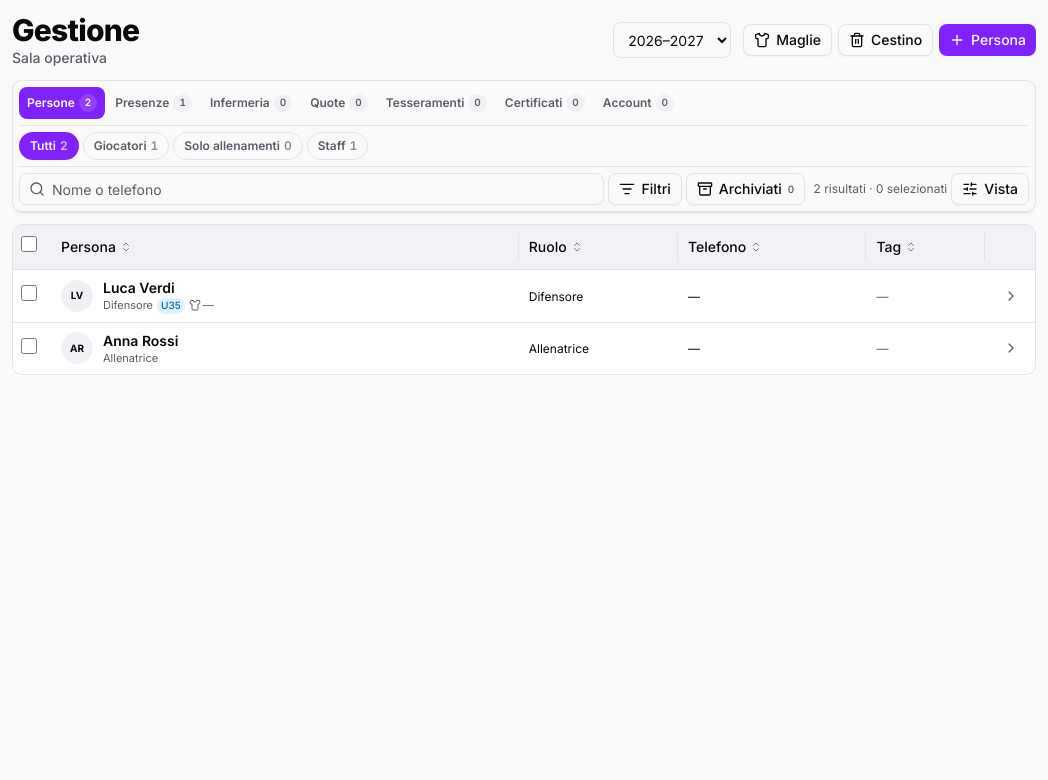
Test: ManagementDashboard operational state › drops a selection that leaves the visible rows
This screenshot has width=1048, height=780.
Click the checkbox named "Seleziona Anna Rossi".
click(29, 346)  # box [21,338,37,354]
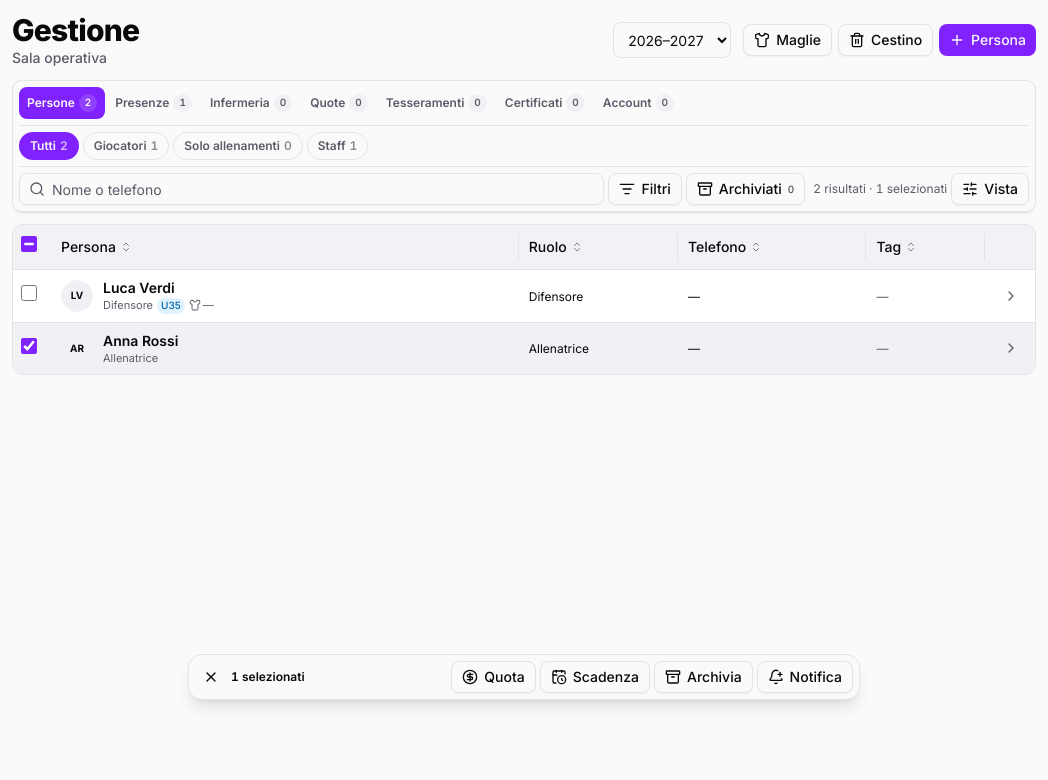
Expected: the text "2 risultati · 1 selezionati" is shown, [809,181,947,197]
Type "Luca" into the search field with placeholder "Nome o telefono".
click(312, 189); type("Luca")  # box [19,173,604,205]
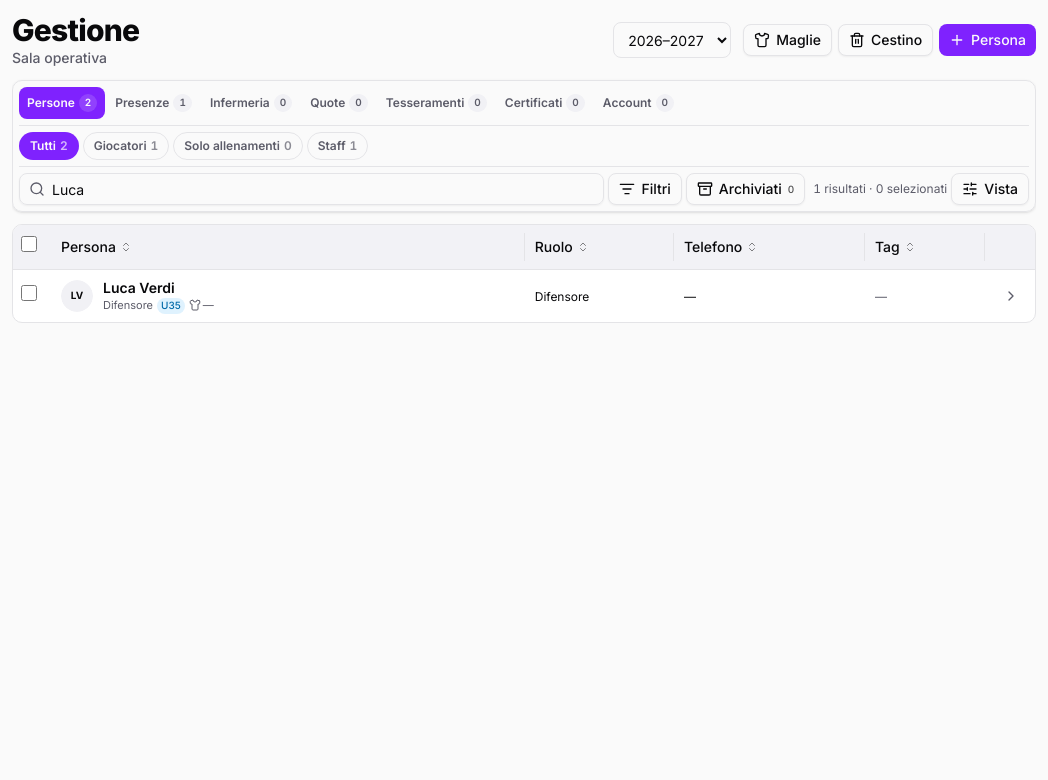
Expected: the text "1 risultati · 0 selezionati" is shown, [809,181,947,197]
